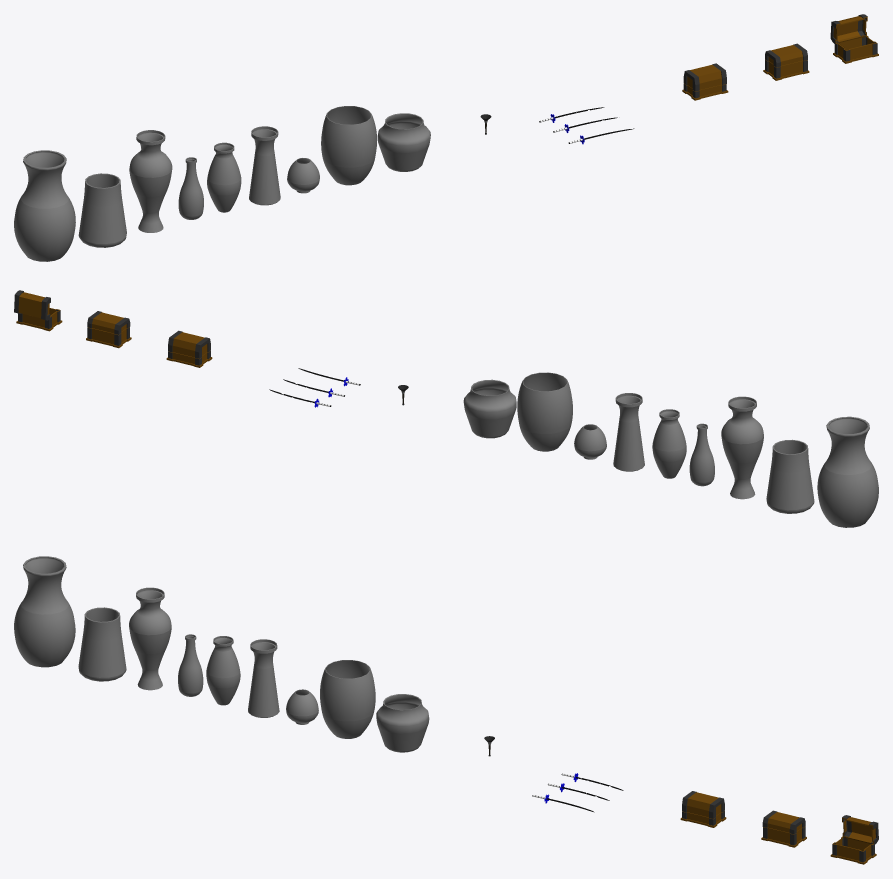
Rendered from deneme1.fbx.
The picture shows the model from 3 angles, top to bottom: view 1: azimuth 30°, elevation 25°; view 2: azimuth 150°, elevation 25°; view 3: azimuth 330°, elevation 25°; orthographic projection.
Visible parts, largest first — view 1: Shape020, Shape019, Layer:0, Shape013, Shape018, Shape017, Shape015, Shape014, Box001, Shape016, Box004, Box005; view 2: Shape020, Shape019, Shape013, Layer:0, Shape018, Shape017, Shape015, Shape014, Shape016, Box001, Box005; view 3: Shape020, Shape019, Layer:0, Shape013, Shape018, Shape017, Shape015, Shape014, Shape016, Box001, Box004, Box005.
Part boxes in pixels (box(x1,y1,x2,y2)): Shape020: box(14, 150, 75, 261); Shape019: box(321, 106, 376, 185); Layer:0: box(78, 173, 126, 247); Shape013: box(129, 130, 172, 232); Shape018: box(377, 113, 430, 171); Shape017: box(249, 126, 280, 205); Shape015: box(207, 142, 241, 212); Shape014: box(178, 157, 203, 219); Box001: box(682, 65, 728, 100); Shape016: box(287, 158, 319, 193); Box004: box(833, 35, 878, 63); Box005: box(833, 16, 867, 43); Shape020: box(817, 416, 878, 527); Shape019: box(517, 372, 572, 451); Shape013: box(721, 396, 763, 499); Layer:0: box(766, 439, 814, 513); Shape018: box(463, 379, 516, 438); Shape017: box(613, 393, 644, 471); Shape015: box(652, 409, 686, 478); Shape014: box(689, 423, 714, 486); Shape016: box(574, 424, 606, 459); Box001: box(166, 332, 212, 367); Box005: box(18, 292, 49, 318); Shape020: box(14, 556, 75, 667); Shape019: box(320, 660, 375, 738); Layer:0: box(78, 607, 126, 681); Shape013: box(129, 587, 171, 690); Shape018: box(376, 694, 429, 752); Shape017: box(248, 639, 279, 717); Shape015: box(206, 636, 240, 705); Shape014: box(178, 634, 203, 696); Shape016: box(286, 689, 318, 724); Box001: box(680, 792, 726, 827); Box004: box(830, 836, 876, 864); Box005: box(842, 817, 875, 844).
Bounding box in the file's own units: 2743 × 305 × 192.
